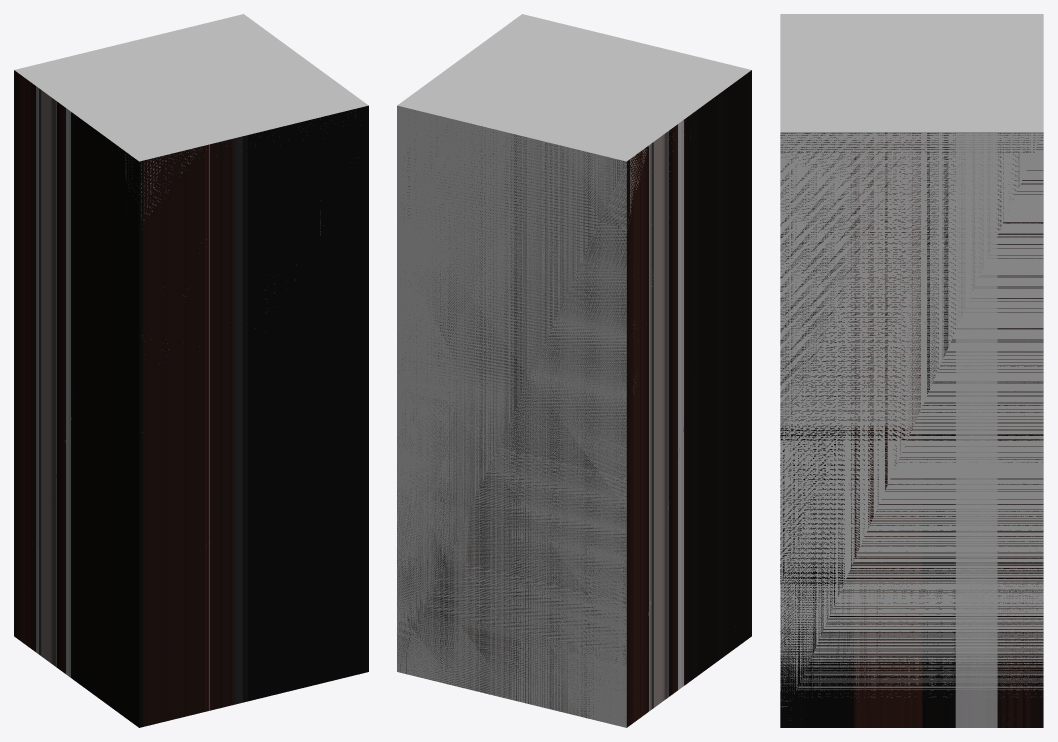
Rendered from bar_stool.DAE.
3 views of the same model, side by side, from view 1: azimuth 30°, elevation 25°; view 2: azimuth 150°, elevation 25°; view 3: azimuth 270°, elevation 25° (orthographic). The views are drawn at different scales.
Visible parts, largest first — view 1: colbox-1, bounds; view 2: bounds, colbox-1; view 3: bounds, colbox-1.
Boxes of the visible parts, left/top/right/bottom form: colbox-1: left=14, top=70, right=368, bottom=727; bounds: left=14, top=14, right=368, bottom=234; bounds: left=397, top=14, right=751, bottom=727; colbox-1: left=397, top=70, right=751, bottom=727; bounds: left=780, top=14, right=1043, bottom=706; colbox-1: left=780, top=132, right=1043, bottom=727.
Bounding box in the file's own units: 43.64 × 41.19 × 103.
